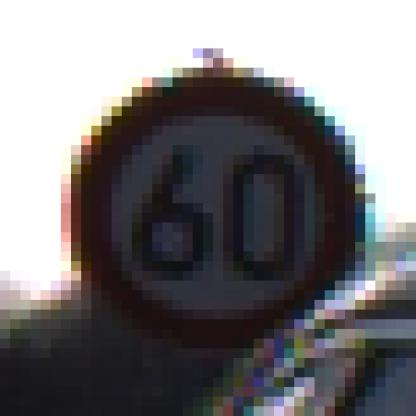Speed Limit 60: (78, 72, 354, 343)
